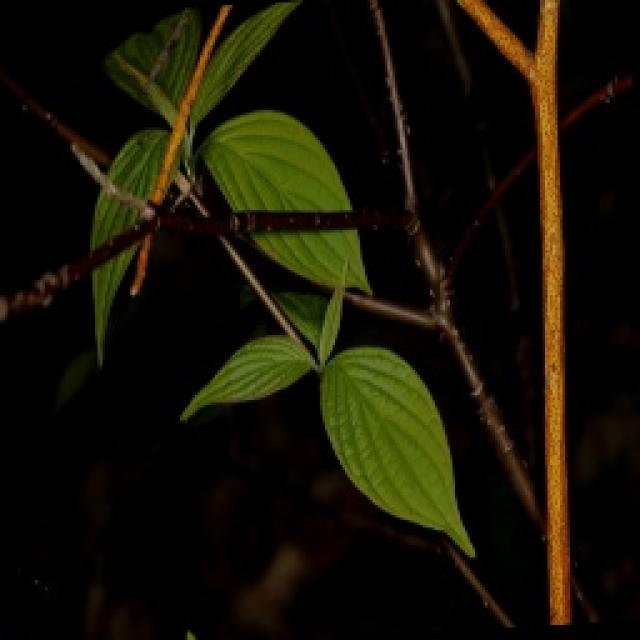Golden_canker: (441, 4, 629, 640), (87, 3, 240, 306)
